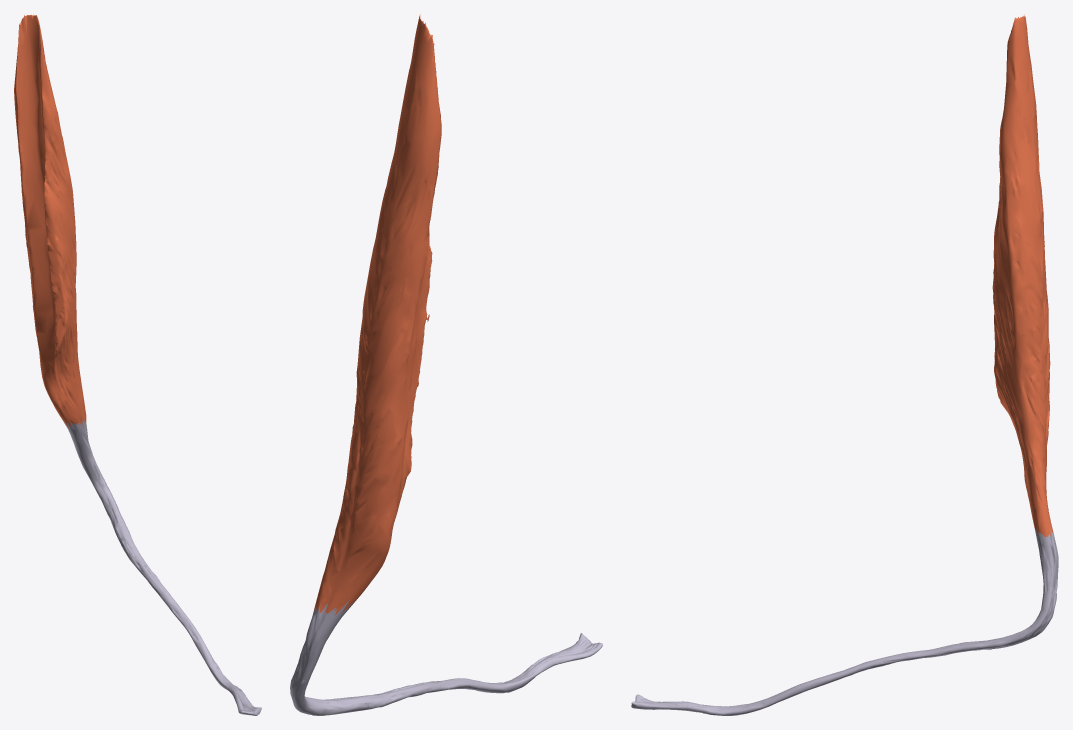
File: Flexor_hallucis_longus.r_Generated_Mesh_From_X3D.496.glb
The picture shows the model from 3 angles, left to right: view 1: azimuth 30°, elevation 25°; view 2: azimuth 150°, elevation 25°; view 3: azimuth 270°, elevation 25°; orthographic projection. The views are drawn at different scales.
Visible parts, largest first — view 1: Flexor_hallucis_longus.r_Generated_Mesh_From_X3D.496; view 2: Flexor_hallucis_longus.r_Generated_Mesh_From_X3D.496; view 3: Flexor_hallucis_longus.r_Generated_Mesh_From_X3D.496.
Part boxes in pixels (left/top/right/bottom): Flexor_hallucis_longus.r_Generated_Mesh_From_X3D.496: left=14, top=14, right=261, bottom=715; Flexor_hallucis_longus.r_Generated_Mesh_From_X3D.496: left=290, top=14, right=602, bottom=715; Flexor_hallucis_longus.r_Generated_Mesh_From_X3D.496: left=631, top=14, right=1058, bottom=715.
Bounding box in the file's own units: 0.0566 × 0.3177 × 0.1848.
